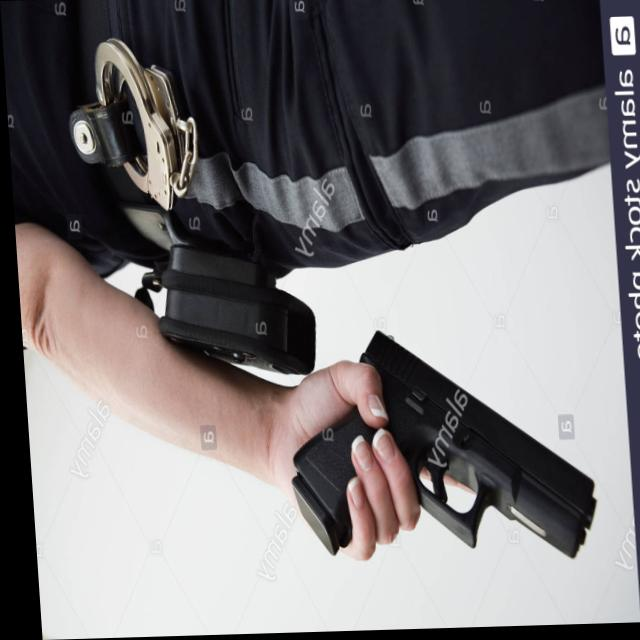handgun: (278, 324, 595, 578)
